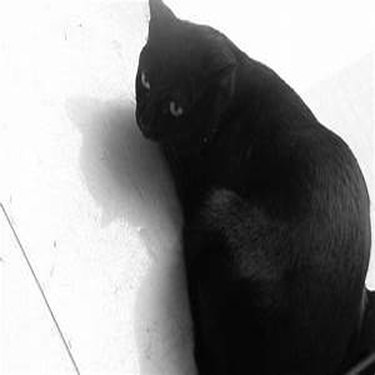cat: (99, 2, 367, 364)
